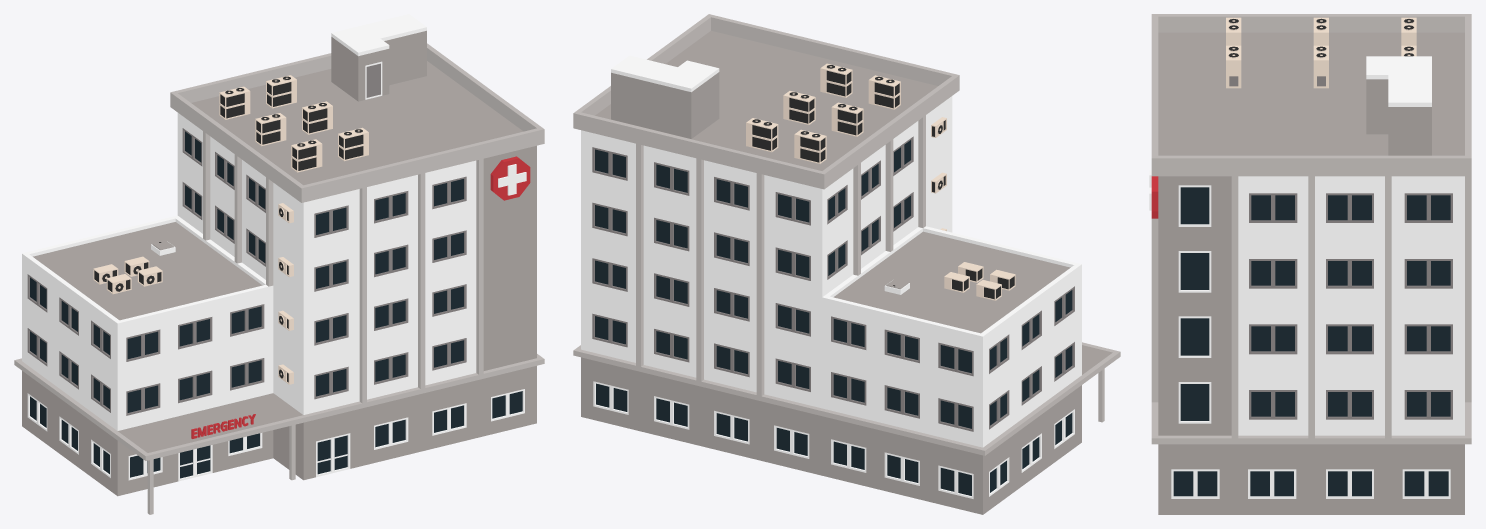
Rendered from building-hospital.glb.
3 views of the same model, side by side, from view 1: azimuth 30°, elevation 25°; view 2: azimuth 150°, elevation 25°; view 3: azimuth 270°, elevation 25° (orthographic). The views are drawn at different scales.
Visible parts, largest first — view 1: building-hospital; view 2: building-hospital; view 3: building-hospital.
Boxes of the visible parts, x1,y1,x2,y2 form: building-hospital: (14, 14, 544, 514); building-hospital: (573, 14, 1120, 514); building-hospital: (1149, 14, 1471, 514).
Size of the model in its own units: 25.6 by 20.3 by 14.7.
1 material, 1 textured.
